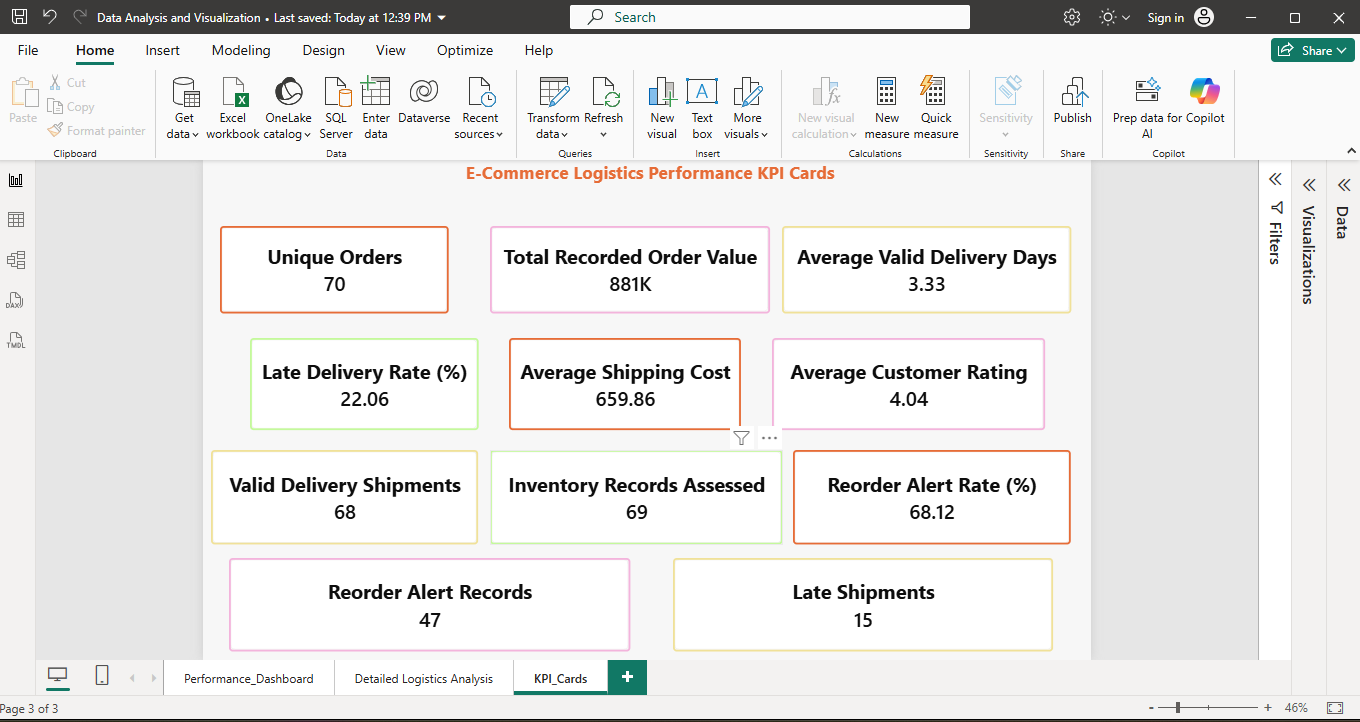

The dashboard page shown, as its layout file describes it:
{"tool":"powerbi","page":{"name":"KPI_Cards","canvas":[1920,1080],"ordinal":2},"visuals":[{"type":"textbox","box":[10.1,0,1909.9,105.8],"z":1000},{"type":"cardVisual","fields":{"Data":["Week 3.Unique Orders"]},"box":[37.8,143.6,493.9,189],"z":2000},{"type":"cardVisual","fields":{"Data":["Week 3.Total Recorded Order Value"]},"box":[619.8,143.6,604.7,189],"z":3000},{"type":"cardVisual","fields":{"Data":["Week 3.Valid Delivery Shipments"]},"box":[17.6,627.4,577,204.1],"z":4000},{"type":"cardVisual","fields":{"Data":["Week 3.Average Valid Delivery Days"]},"box":[1249.8,143.6,624.9,189],"z":5000},{"type":"cardVisual","fields":{"Data":["Week 3.Late Delivery Rate (%)"]},"box":[100.8,385.5,493.9,199.1],"z":6000},{"type":"cardVisual","fields":{"Data":["Week 3.Average Shipping Cost"]},"box":[660.2,385.5,501.4,199.1],"z":7000},{"type":"cardVisual","fields":{"Data":["Week 3.Average Customer Rating"]},"box":[1229.6,385.5,589.6,199.1],"z":8000},{"type":"cardVisual","fields":{"Data":["Week 3.Inventory Records Assessed"]},"box":[619.8,627.4,632.4,204.1],"z":9000},{"type":"cardVisual","fields":{"Data":["Week 3.Reorder Alert Rate (%)"]},"box":[1275,627.4,599.7,204.1],"z":10000},{"type":"cardVisual","fields":{"Data":["Week 3.Reorder Alert Records"]},"box":[55.4,859.2,866.8,201.6],"z":11000},{"type":"cardVisual","fields":{"Data":["Week 3.Late Shipments"]},"box":[1015.4,859.2,821.4,201.6],"z":12000}]}

Visuals, with their boxes on the page's 1920x1080 design canvas (x1, y1, x2, y2). These are canvas units, not pixel positions in the 1360x722 screenshot, which may show the page scaled, cropped or inside an application window:
textbox: <region>10, 0, 1920, 106</region>
cardVisual - Week 3.Unique Orders: <region>38, 144, 532, 333</region>
cardVisual - Week 3.Total Recorded Order Value: <region>620, 144, 1224, 333</region>
cardVisual - Week 3.Valid Delivery Shipments: <region>18, 627, 595, 832</region>
cardVisual - Week 3.Average Valid Delivery Days: <region>1250, 144, 1875, 333</region>
cardVisual - Week 3.Late Delivery Rate (%): <region>101, 386, 595, 585</region>
cardVisual - Week 3.Average Shipping Cost: <region>660, 386, 1162, 585</region>
cardVisual - Week 3.Average Customer Rating: <region>1230, 386, 1819, 585</region>
cardVisual - Week 3.Inventory Records Assessed: <region>620, 627, 1252, 832</region>
cardVisual - Week 3.Reorder Alert Rate (%): <region>1275, 627, 1875, 832</region>
cardVisual - Week 3.Reorder Alert Records: <region>55, 859, 922, 1061</region>
cardVisual - Week 3.Late Shipments: <region>1015, 859, 1837, 1061</region>
